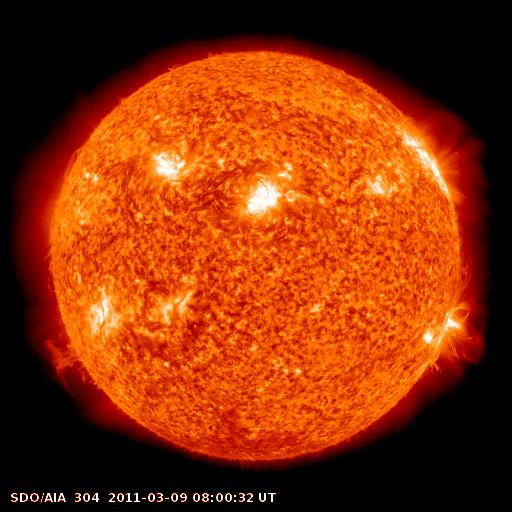prominence: (31, 324, 103, 401), (451, 225, 489, 305), (30, 231, 70, 306), (52, 136, 90, 194), (416, 349, 454, 388)
